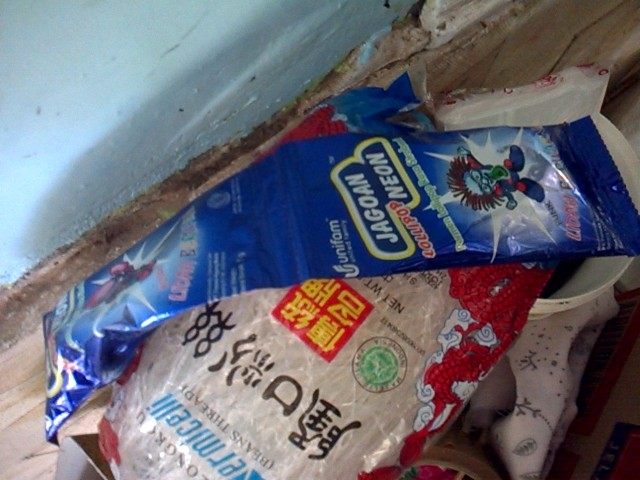jagoan neon: (266, 114, 640, 283)
